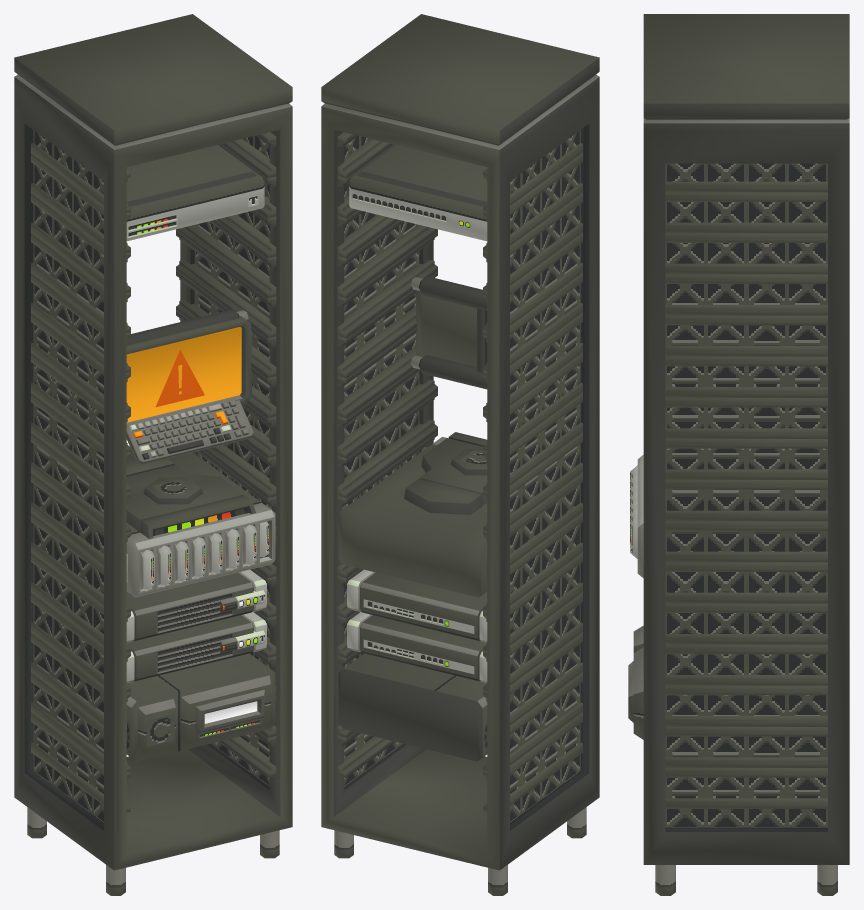
File: rack-warning.glb
The picture shows the model from 3 angles, left to right: view 1: azimuth 30°, elevation 25°; view 2: azimuth 150°, elevation 25°; view 3: azimuth 270°, elevation 25°; orthographic projection. The views are drawn at different scales.
Parts seen in each view (by area): view 1: Plane.045, Plane.047, Plane.033, Plane.074, Plane (×2), Plane.062, Plane.070, Plane.069, Plane.048, Plane.049, Plane.046, Plane.051 (×2) (+1 smaller); view 2: Plane.045, Plane.047, Plane.069, Plane.033, Plane (×2), Plane.062, Plane.074, Plane.070, Plane.046, Plane.063; view 3: Plane.045, Plane.047, Plane.033, Plane.046, Plane.069.
Part boxes in pixels (x1,y1,x2,y2): Plane.045: [14, 14, 292, 870]; Plane.047: [31, 132, 276, 812]; Plane.033: [126, 653, 275, 761]; Plane.074: [126, 309, 251, 427]; Plane (×2): [126, 569, 266, 682]; Plane.062: [126, 145, 267, 241]; Plane.070: [126, 455, 255, 538]; Plane.069: [126, 449, 275, 597]; Plane.048: [129, 400, 248, 459]; Plane.049: [126, 397, 253, 464]; Plane.046: [27, 807, 279, 895]; Plane.051 (×2): [220, 590, 265, 653]; Plane.045: [321, 14, 599, 870]; Plane.047: [337, 132, 582, 812]; Plane.069: [338, 437, 487, 597]; Plane.033: [338, 653, 487, 761]; Plane (×2): [347, 569, 487, 682]; Plane.062: [346, 145, 487, 241]; Plane.074: [410, 276, 487, 389]; Plane.070: [404, 432, 487, 514]; Plane.046: [334, 807, 586, 895]; Plane.063: [352, 193, 470, 228]; Plane.045: [643, 14, 849, 864]; Plane.047: [665, 181, 827, 808]; Plane.033: [628, 625, 643, 739]; Plane.046: [655, 865, 837, 895]; Plane.069: [637, 455, 643, 578].
Bounding box in the file's own units: 0.2195 × 0.9082 × 0.229.
1 material, 1 textured.
